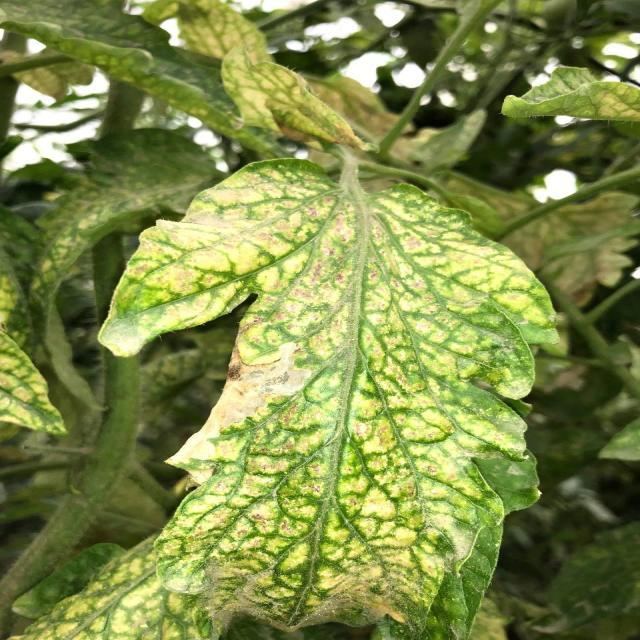Tuta absoluta: (165, 317, 320, 505)
